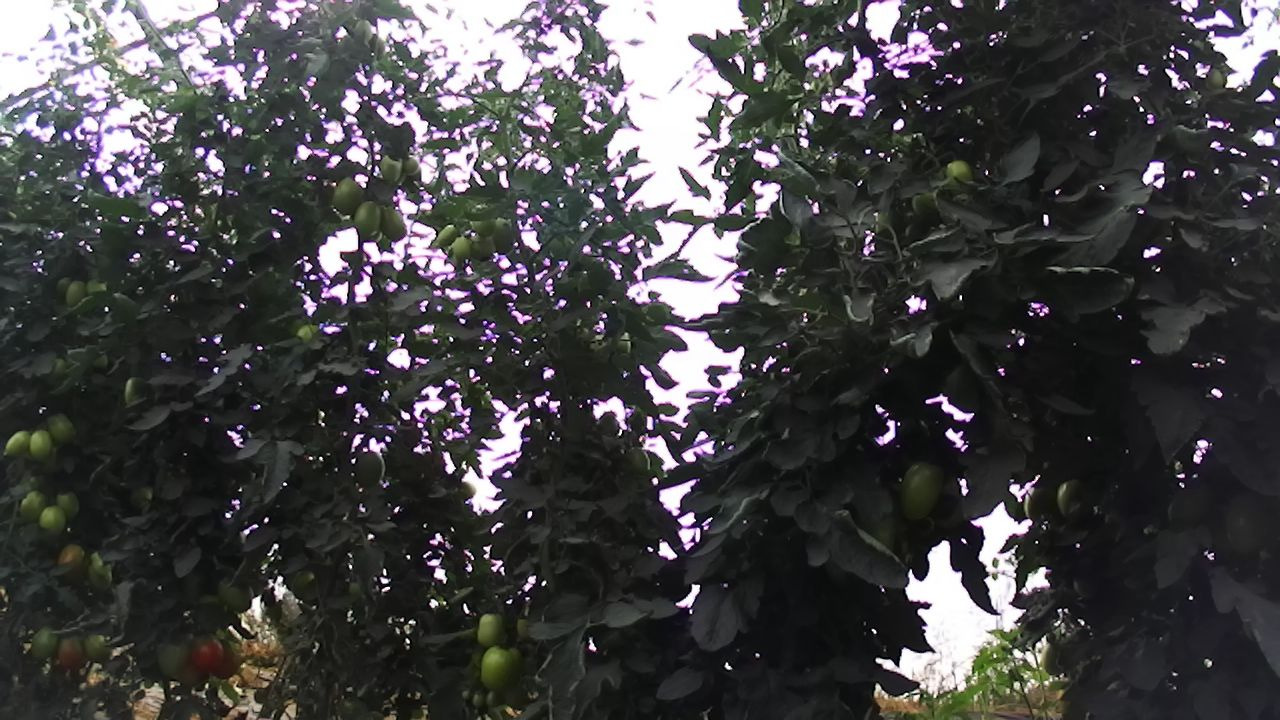tomato: (1218, 490, 1277, 562), (896, 460, 945, 524), (480, 642, 521, 694), (188, 632, 229, 680), (212, 570, 255, 614), (153, 635, 191, 680), (375, 198, 409, 243), (44, 406, 80, 448), (330, 175, 367, 215), (29, 619, 61, 664), (17, 485, 52, 526), (33, 501, 70, 539), (473, 610, 508, 649), (54, 632, 89, 668), (1, 426, 36, 461), (26, 426, 57, 464), (352, 200, 382, 236), (82, 632, 117, 661), (54, 487, 82, 522), (377, 151, 405, 185), (63, 273, 88, 310), (85, 546, 112, 580), (122, 376, 149, 408), (436, 218, 462, 248), (448, 234, 471, 262), (402, 152, 419, 176)
